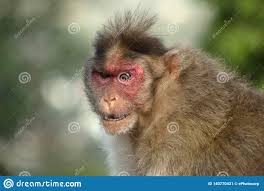monkey: (69, 18, 205, 153)
